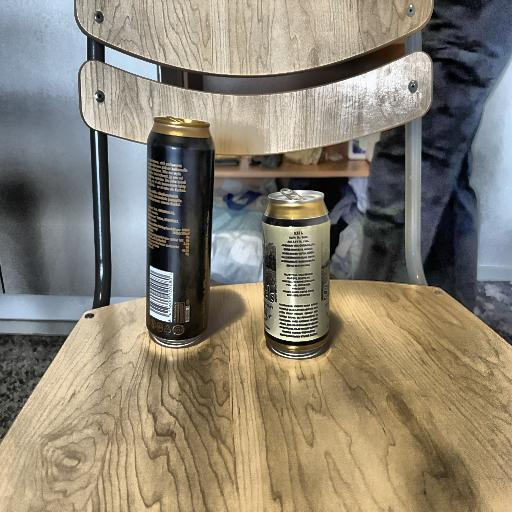karhu: (138, 110, 216, 352)
sandels: (251, 183, 343, 370)
